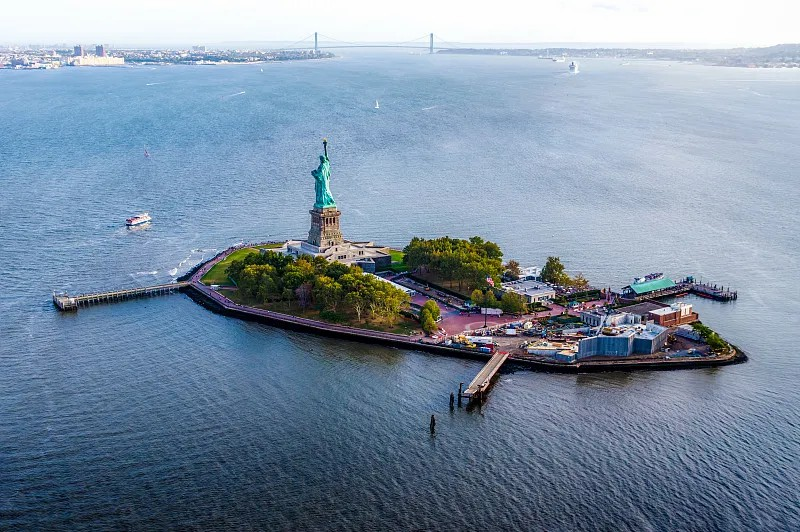SL: (307, 139, 343, 248)
